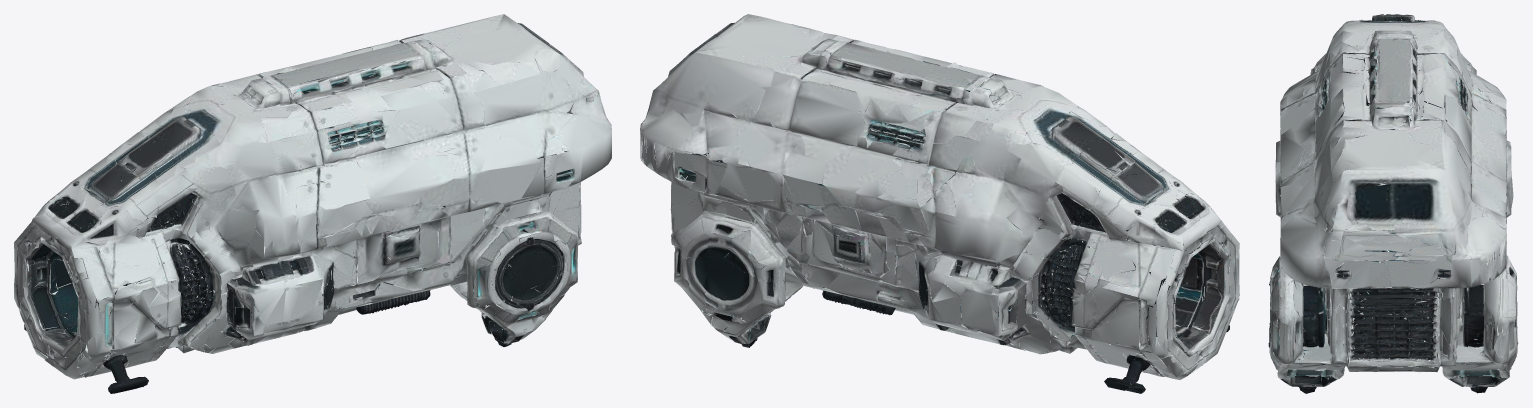
File: fetch.glb
3 renders of one model, left to right at view 1: azimuth 30°, elevation 25°; view 2: azimuth 150°, elevation 25°; view 3: azimuth 270°, elevation 25°, orthographic. The views are drawn at different scales.
Visible parts, largest first — view 1: Mesh_0; view 2: Mesh_0; view 3: Mesh_0.
Part boxes in pixels (x1=…): Mesh_0: x1=14, y1=14, x2=611, y2=393; Mesh_0: x1=640, y1=14, x2=1239, y2=393; Mesh_0: x1=1268, y1=14, x2=1518, y2=393.
Size of the model in its own units: 1.91 by 0.9651 by 0.8119.
Materials: 1 (1 with a texture image).
